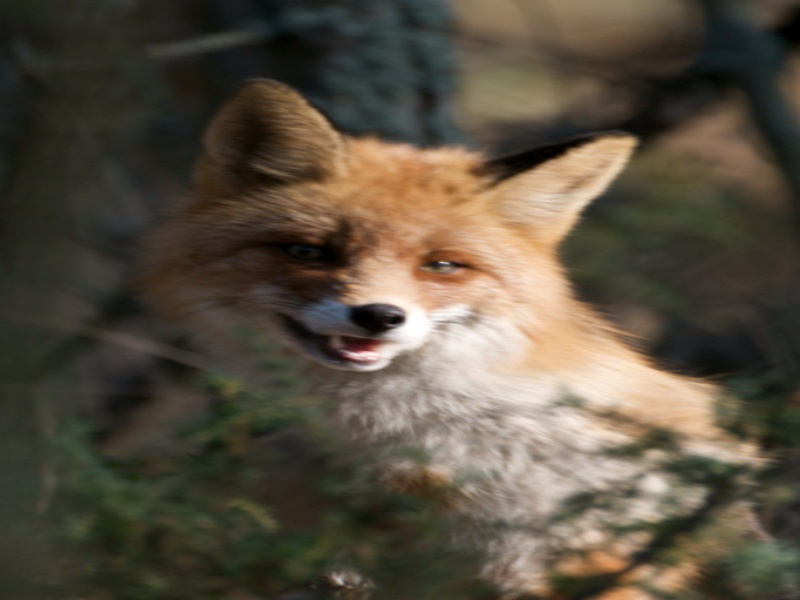fox: (124, 85, 741, 569)
